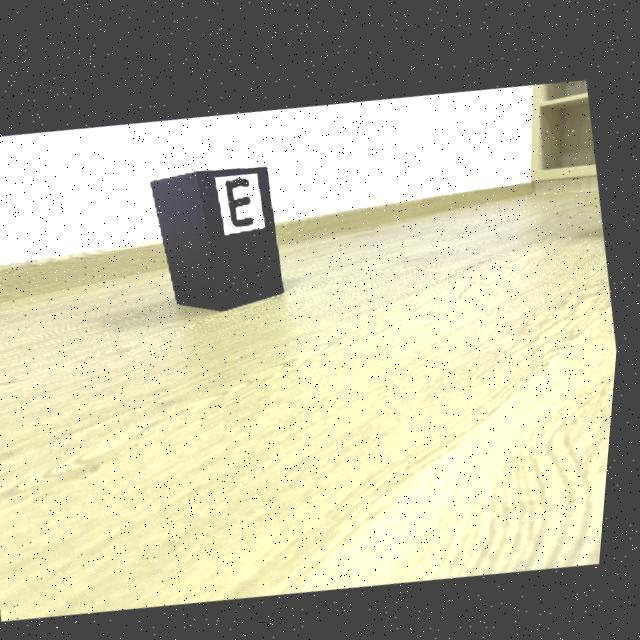E: (228, 173, 257, 223)
